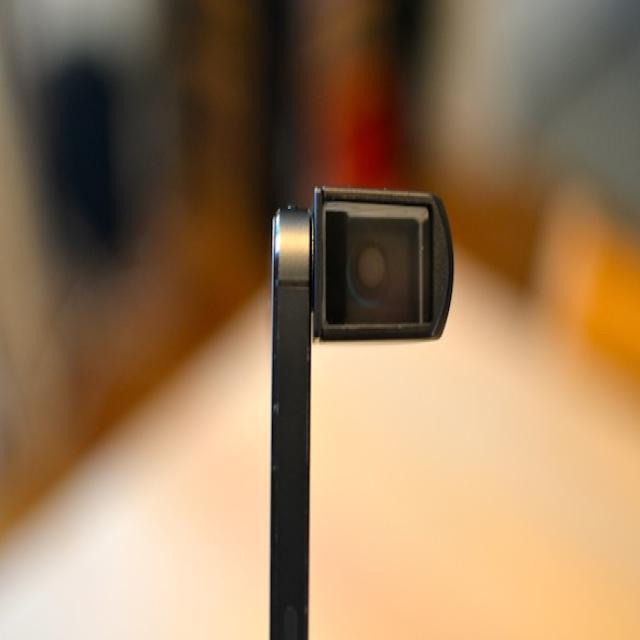hidden camera: (317, 187, 434, 346)
